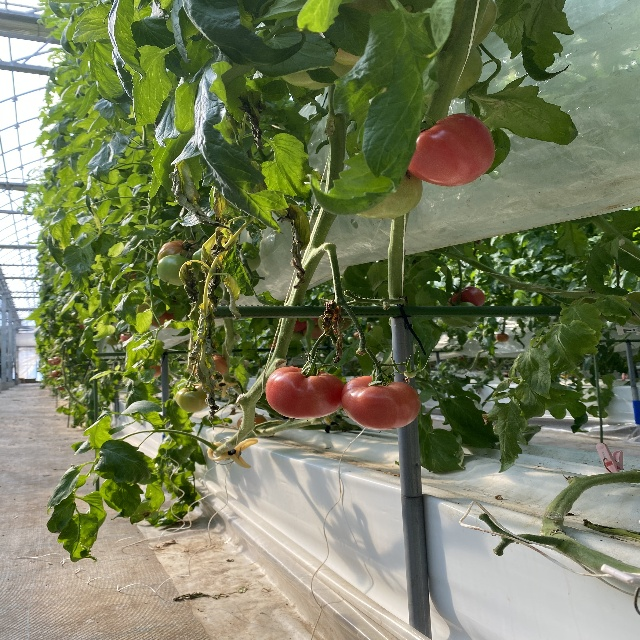b_fully_ripened: (407, 113, 495, 188), (340, 375, 421, 431), (265, 366, 345, 420), (447, 286, 485, 307)
b_green: (156, 255, 200, 286), (440, 302, 480, 329), (404, 370, 417, 378)
b_half_ripened: (175, 384, 212, 413), (158, 240, 198, 261)
